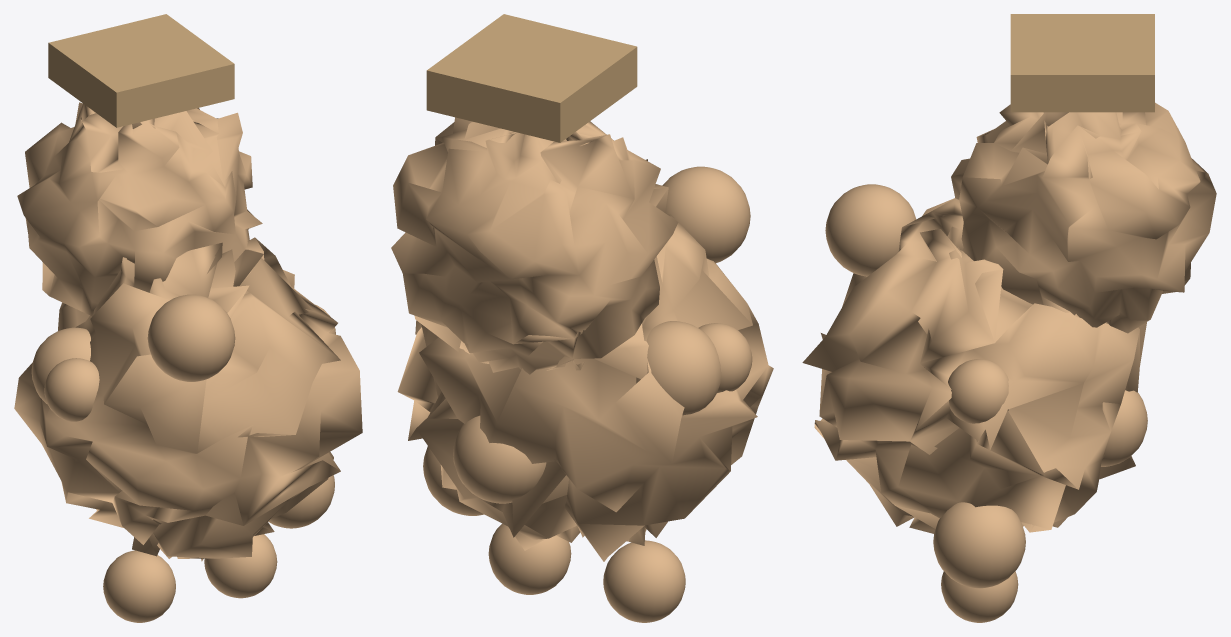
Rendered from clay_pipe_snake.glb.
The picture shows the model from 3 angles, left to right: view 1: azimuth 30°, elevation 25°; view 2: azimuth 150°, elevation 25°; view 3: azimuth 270°, elevation 25°; orthographic projection. The views are drawn at different scales.
Parts seen in each view (by area): view 1: hat; view 2: hat; view 3: hat.
Part boxes in pixels (left/top/right/bottom): hat: left=14, top=14, right=362, bottom=622; hat: left=391, top=14, right=773, bottom=622; hat: left=802, top=14, right=1216, bottom=622.
Size of the model in its own units: 1.05 by 1.76 by 1.21.
